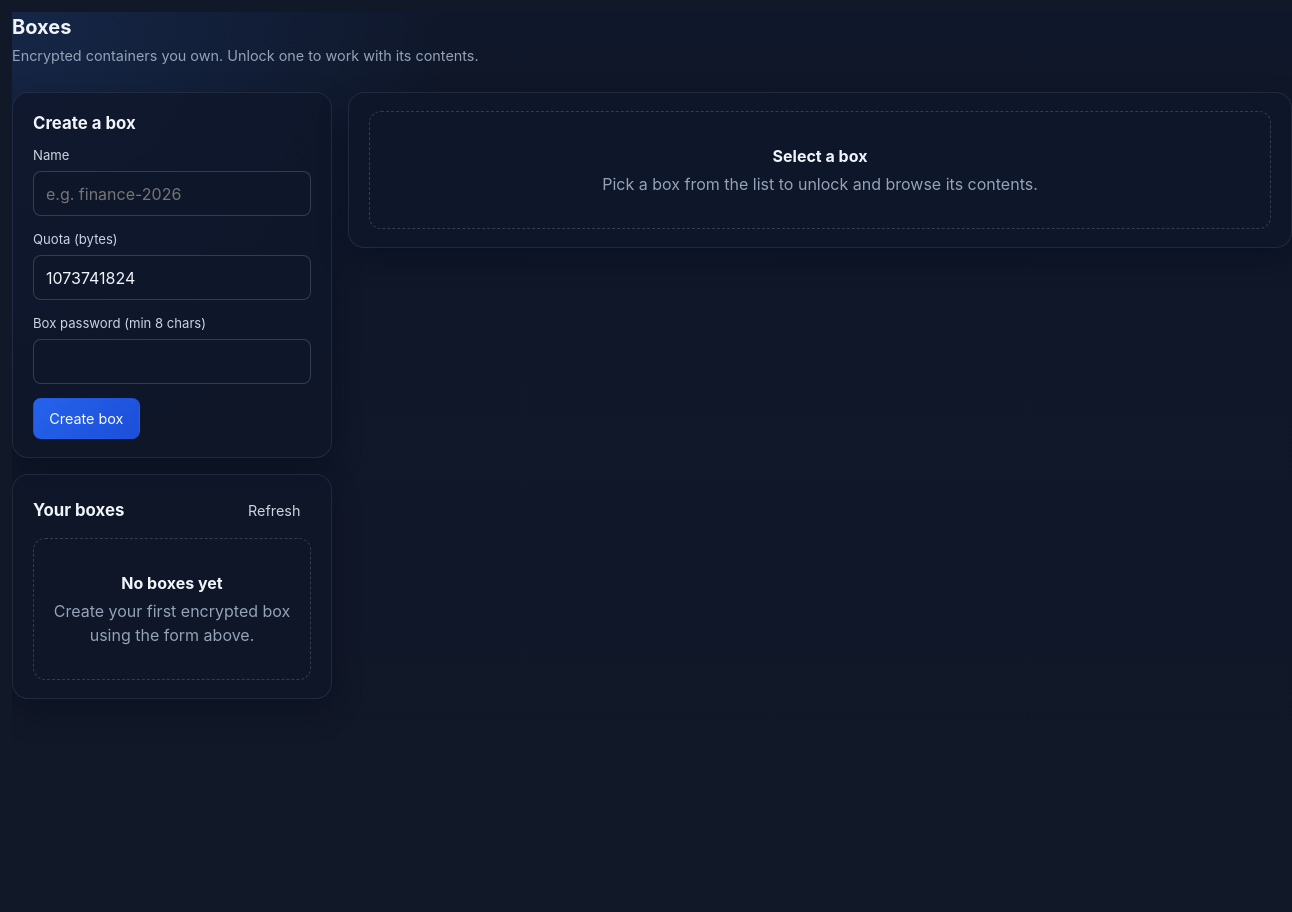
Test: BoxesPage › renders empty state, then lets the user create a box via the real form
Expected: the text "No boxes yet" is shown, [121,573,223,593]
In the field labelled "Name": (172, 194) [33,171,311,216], type "alpha"
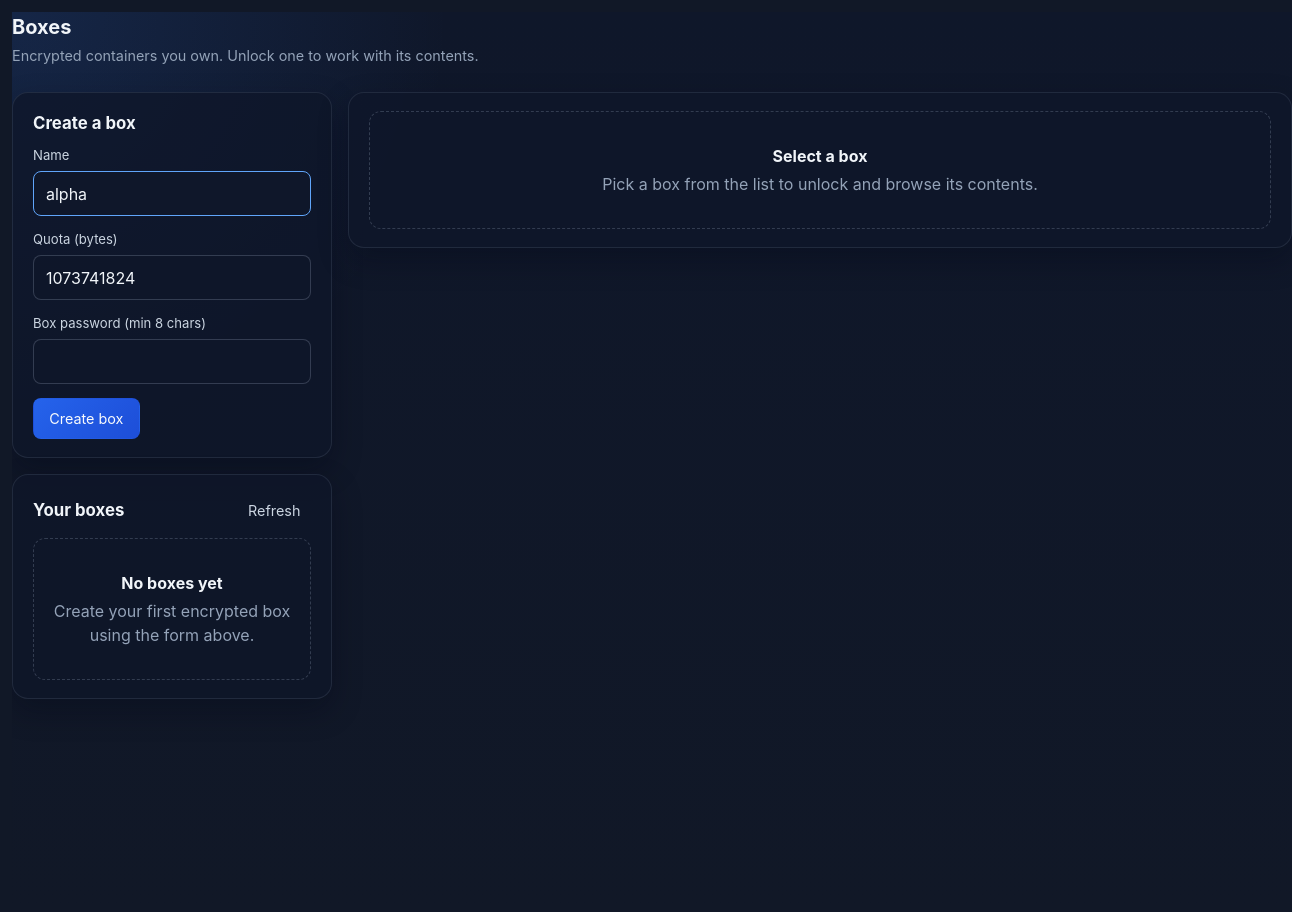
In the password field labelled "Box password (min 8 chars)": (172, 362) [33,339,311,384], type "boxpass1"
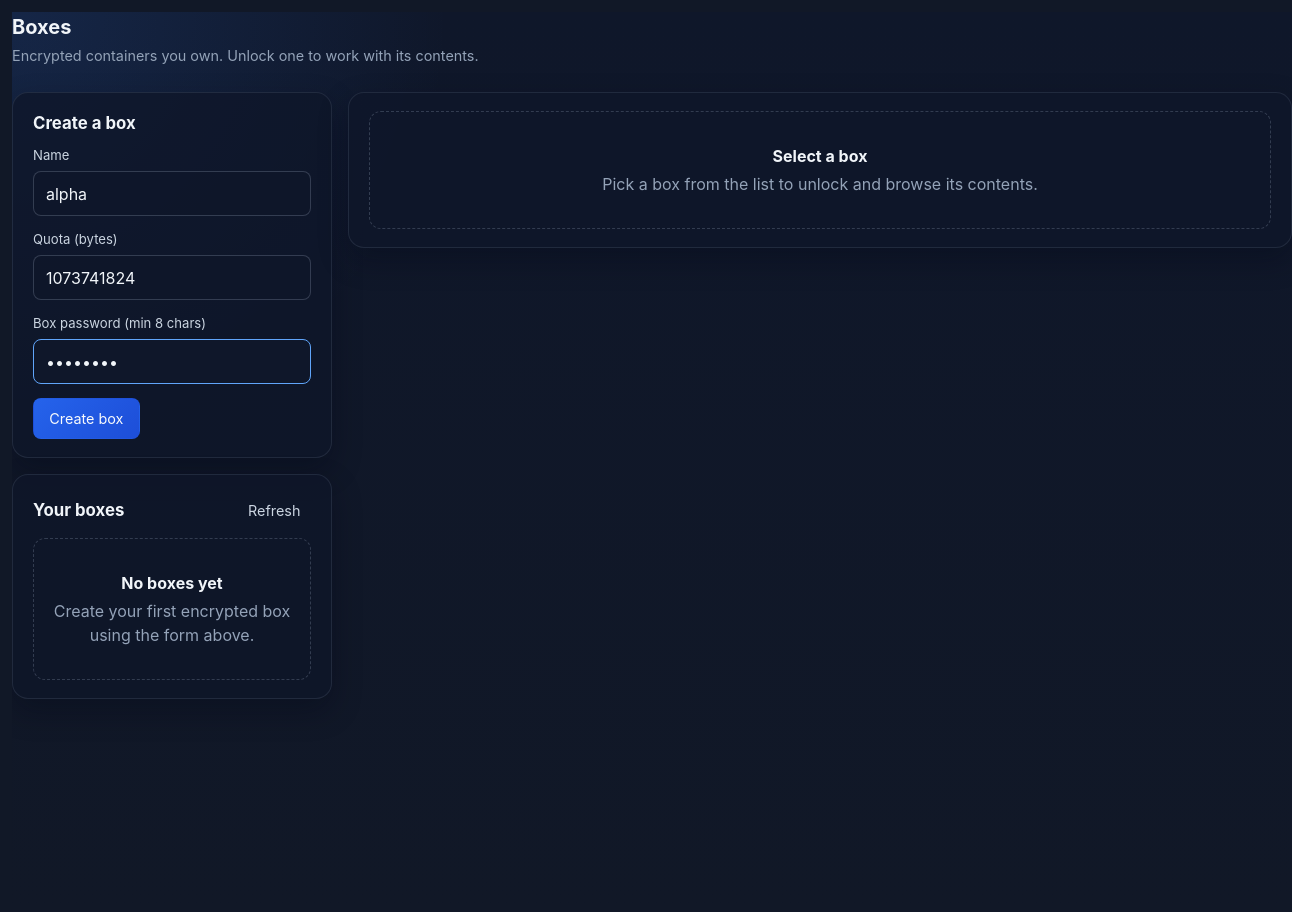
Click the button "Create box": (86, 419) [33,398,140,439]
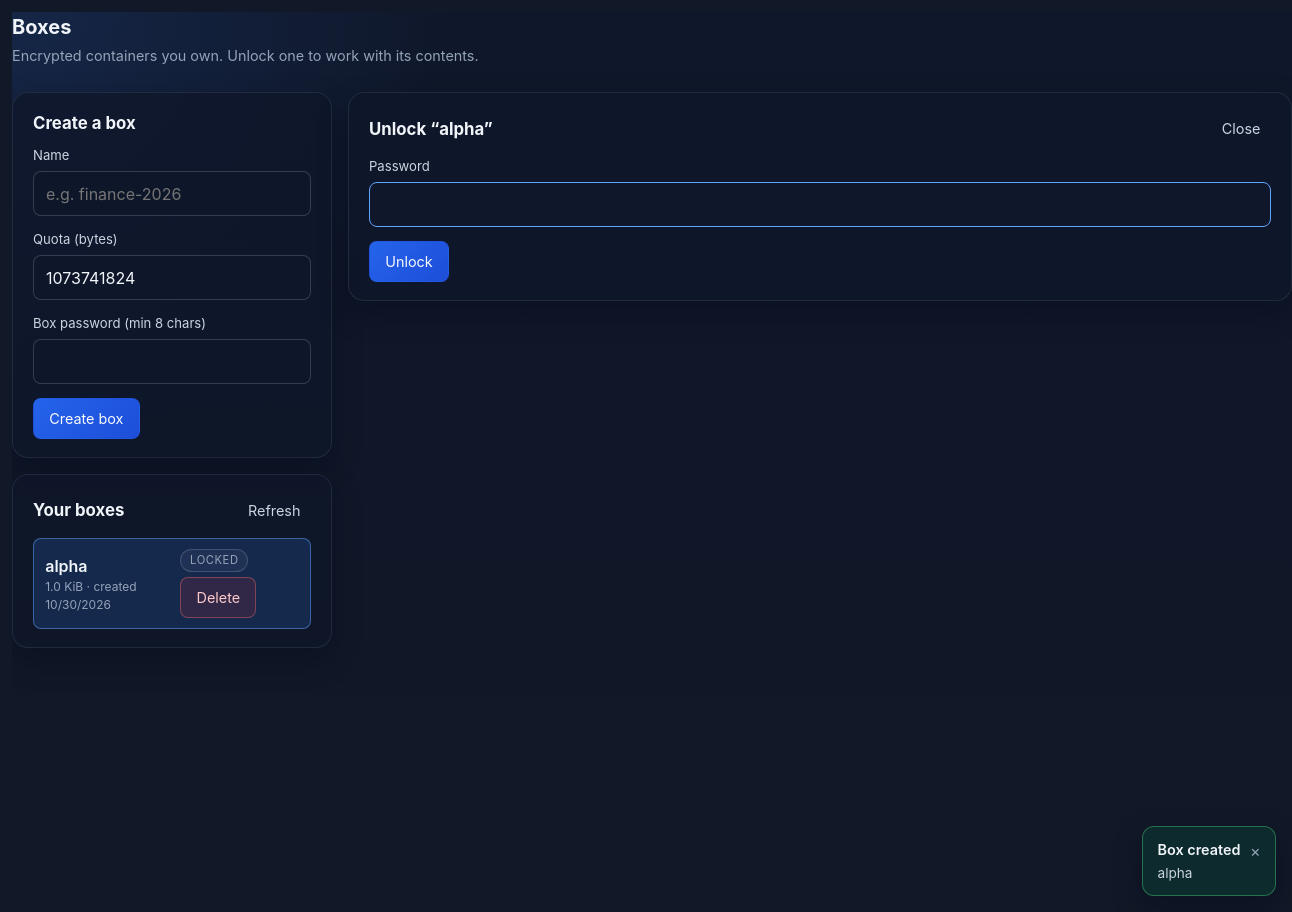
Expected: the list item with test id "box-row-alpha" is shown, [33,538,311,629]
